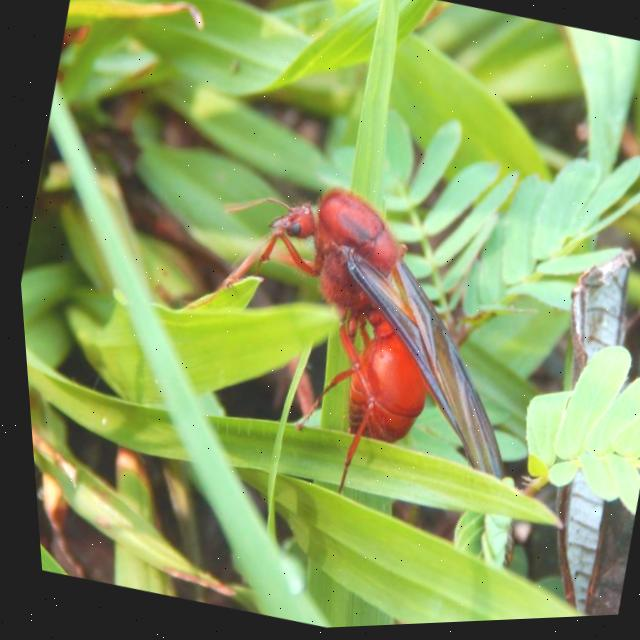Alive-Male-Alate: (133, 150, 561, 543)
